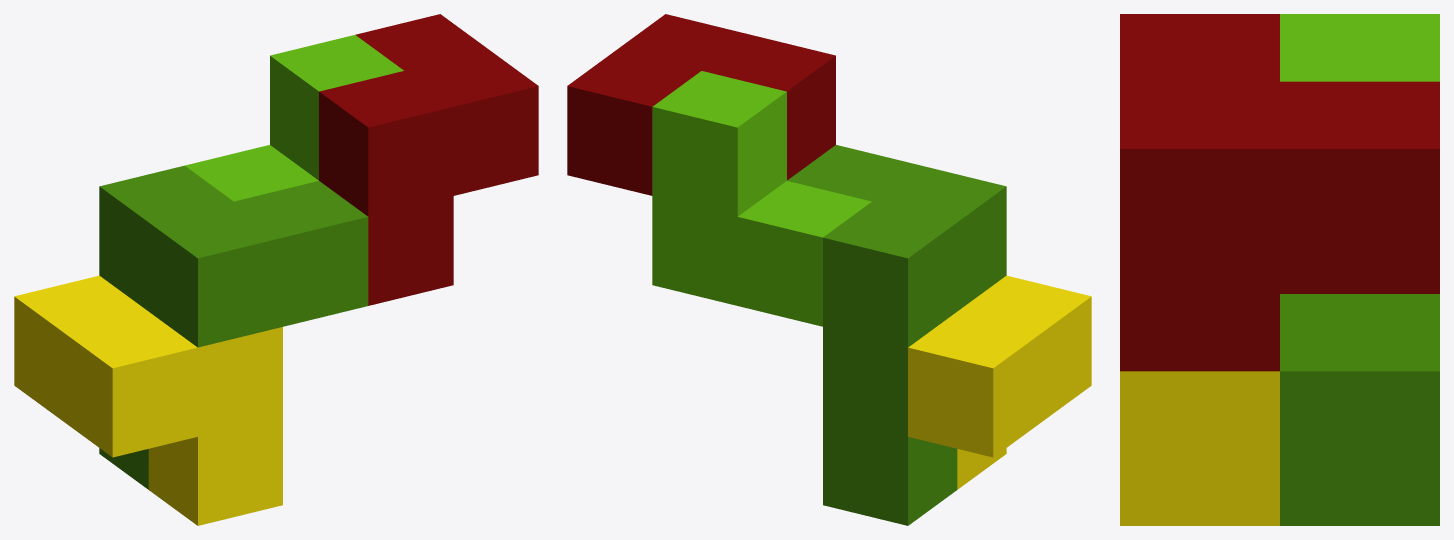
3 views of the same model, side by side, from view 1: azimuth 30°, elevation 25°; view 2: azimuth 150°, elevation 25°; view 3: azimuth 270°, elevation 25° (orthographic). The views are drawn at different scales.
Parts seen in each view (by area): view 1: mergedBlocks(Clone); view 2: mergedBlocks(Clone); view 3: mergedBlocks(Clone).
Part boxes in pixels (x1=…): mergedBlocks(Clone): x1=14, y1=14, x2=538, y2=525; mergedBlocks(Clone): x1=567, y1=14, x2=1091, y2=525; mergedBlocks(Clone): x1=1120, y1=14, x2=1439, y2=525.
Size of the model in its own units: 5 by 4 by 2.
Materials: 4 (4 with a texture image).
